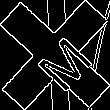M_NW: (21, 21, 89, 89)
